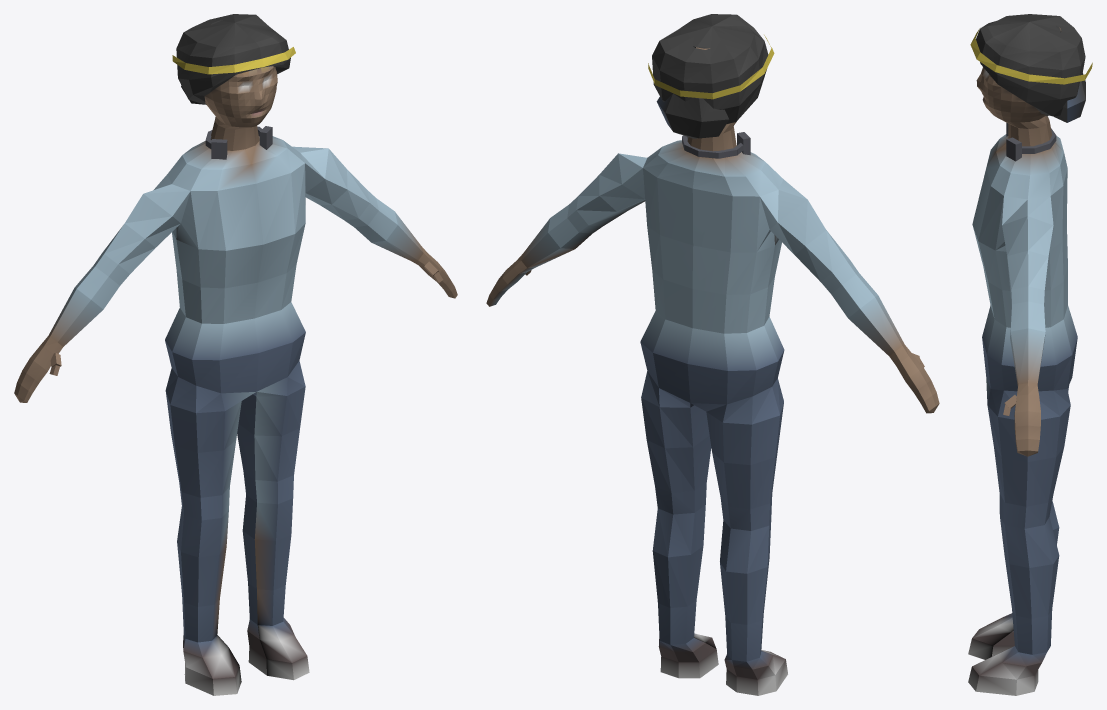
File: char__pessoa__lu.glb
The picture shows the model from 3 angles, left to right: view 1: azimuth 30°, elevation 25°; view 2: azimuth 150°, elevation 25°; view 3: azimuth 270°, elevation 25°; orthographic projection. The views are drawn at different scales.
Parts seen in each view (by area): view 1: char__pessoa__lu; view 2: char__pessoa__lu; view 3: char__pessoa__lu.
Part boxes in pixels (x1,y1,x2,y2): char__pessoa__lu: (14, 14, 457, 695); char__pessoa__lu: (486, 14, 939, 695); char__pessoa__lu: (968, 14, 1092, 695).
Bounding box in the file's own units: 1.19 × 1.69 × 0.2936.
